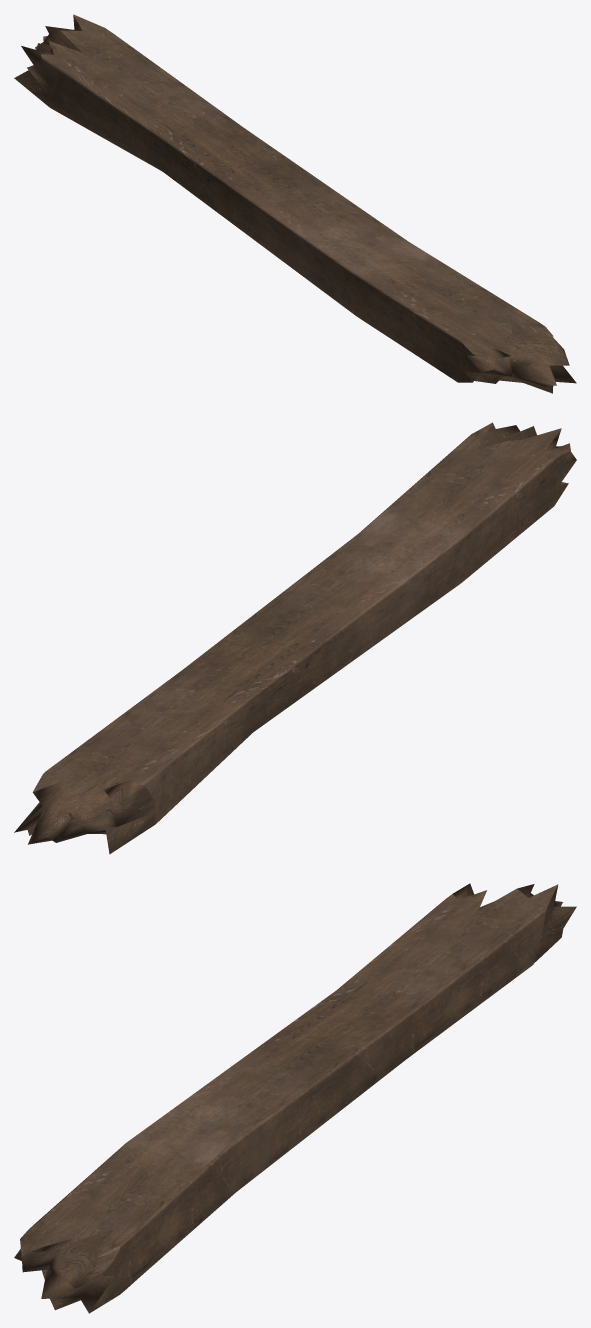
The model's file is SM_Wooden_Beam_03.fbx.
3 views of the same model, one above another, from view 1: azimuth 30°, elevation 25°; view 2: azimuth 150°, elevation 25°; view 3: azimuth 330°, elevation 25° (orthographic). The views are drawn at different scales.
Visible parts, largest first — view 1: SM_Wooden_Beam_03_LOD0; view 2: SM_Wooden_Beam_03_LOD0; view 3: SM_Wooden_Beam_03_LOD0.
Boxes of the visible parts, x1=… form: SM_Wooden_Beam_03_LOD0: x1=14, y1=14, x2=576, y2=393; SM_Wooden_Beam_03_LOD0: x1=14, y1=422, x2=576, y2=854; SM_Wooden_Beam_03_LOD0: x1=14, y1=883, x2=576, y2=1313.
Size of what is drawn, in the model's own units: 64.72 by 29.45 by 513.
